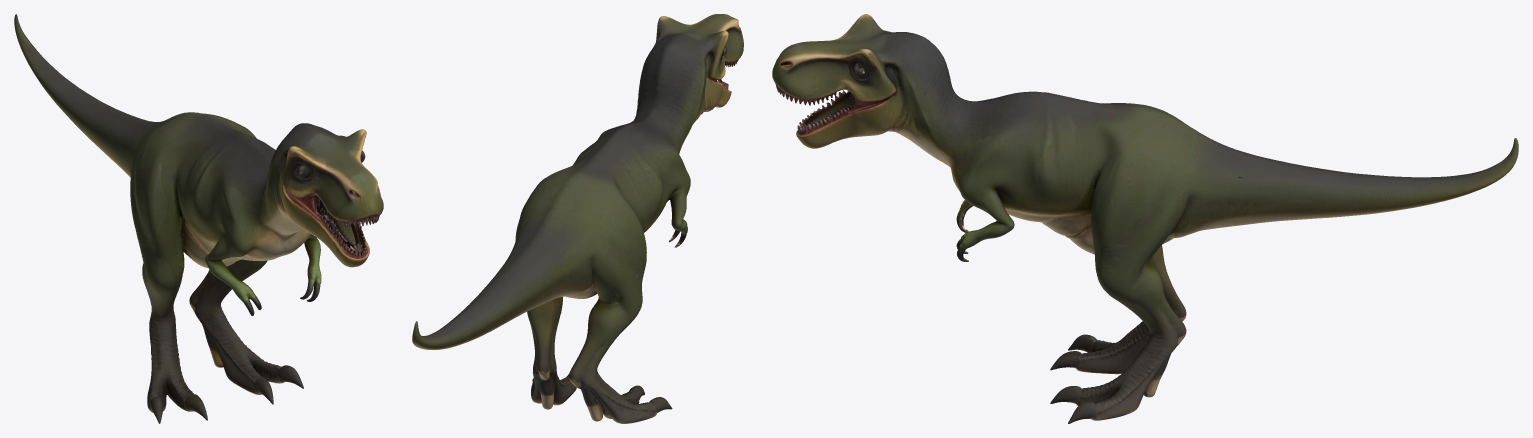
The model's file is trex.opt.glb.
3 renders of one model, left to right at view 1: azimuth 30°, elevation 25°; view 2: azimuth 150°, elevation 25°; view 3: azimuth 270°, elevation 25°, orthographic. The views are drawn at different scales.
Parts seen in each view (by area): view 1: Object_4; view 2: Object_4; view 3: Object_4.
Boxes of the visible parts, x1=… form: Object_4: x1=14, y1=14, x2=383, y2=423; Object_4: x1=412, y1=14, x2=743, y2=423; Object_4: x1=772, y1=14, x2=1518, y2=423.
Bounding box in the file's own units: 4.47 × 10 × 18.99.
1 material, 1 textured.
